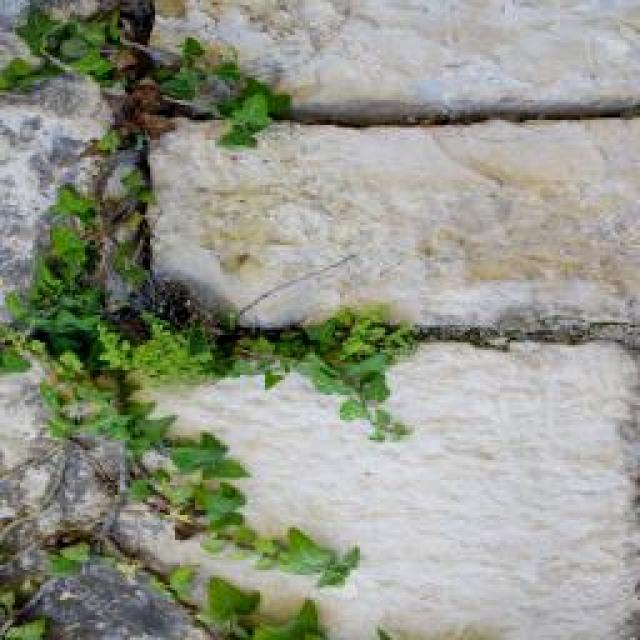crack: (36, 293, 640, 368), (421, 349, 637, 493), (127, 85, 640, 134), (89, 241, 154, 464), (409, 273, 586, 332), (225, 188, 354, 266), (432, 127, 556, 197), (408, 57, 539, 113), (285, 0, 349, 46)
dampens: (0, 428, 218, 638)
dampness: (107, 330, 640, 637)
vegetation: (1, 2, 423, 637), (8, 187, 223, 378), (147, 1, 353, 91), (156, 39, 287, 139), (1, 91, 113, 206), (5, 7, 130, 94), (12, 261, 111, 356), (1, 440, 83, 551), (3, 365, 75, 485), (28, 207, 98, 302), (8, 70, 113, 132), (0, 571, 60, 636), (161, 57, 220, 108), (0, 56, 44, 91)
